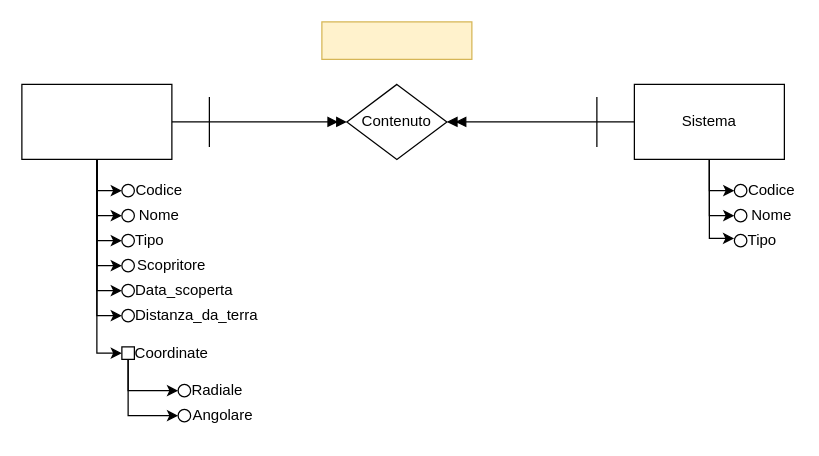
This 819x456 diagram has some shape labels left out. The centre of each missing label's shape, as x and y in pixels:
CorpoCeleste: (96,121)
many-to-many: (396,40)
